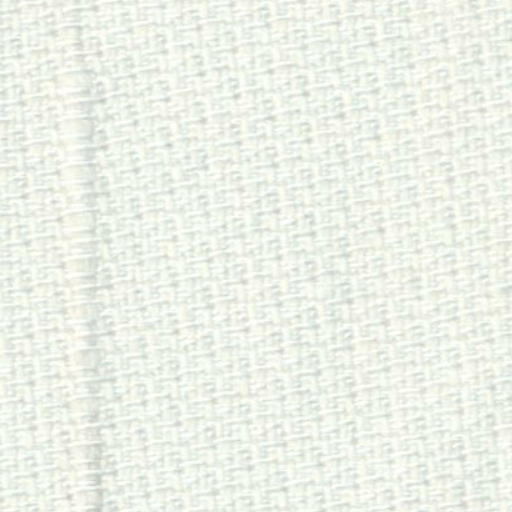DaiSha: (40, 7, 133, 502)
